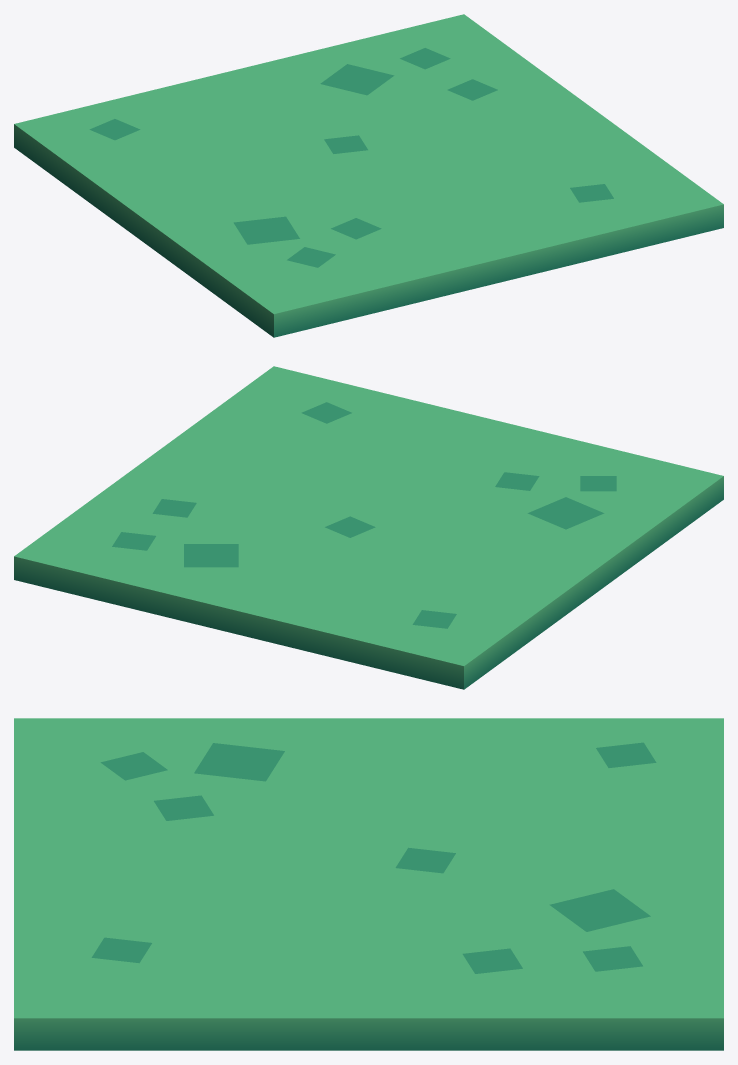
The model's file is city-grass.glb.
3 views of the same model, one above another, from view 1: azimuth 30°, elevation 25°; view 2: azimuth 150°, elevation 25°; view 3: azimuth 270°, elevation 25° (orthographic). The views are drawn at different scales.
Parts seen in each view (by area): view 1: grass; view 2: grass; view 3: grass.
Part boxes in pixels (x1,y1,x2,y2): grass: (14,14,723,337); grass: (14,366,723,689); grass: (14,718,723,1050).
Bounding box in the file's own units: 1 × 0.06 × 1.
Materials: 1 (1 with a texture image).
